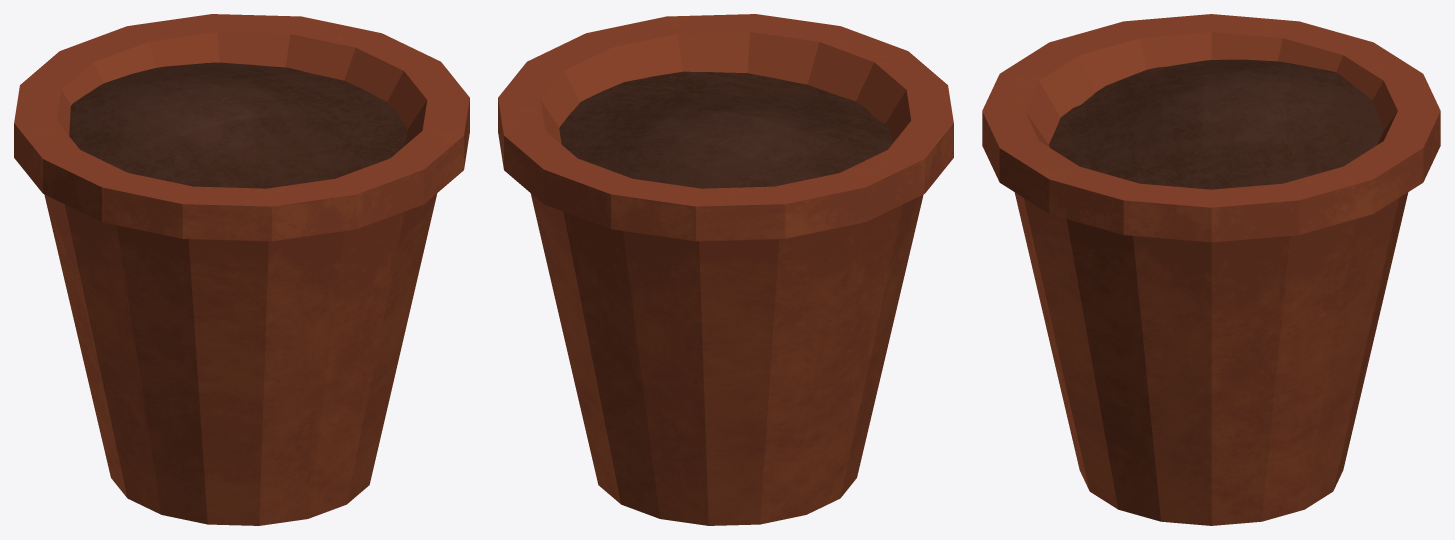
The model's file is Maceta_text.fbx.
3 renders of one model, left to right at view 1: azimuth 30°, elevation 25°; view 2: azimuth 150°, elevation 25°; view 3: azimuth 270°, elevation 25°, orthographic.
Parts seen in each view (by area): view 1: Maceta; view 2: Maceta; view 3: Maceta.
Boxes of the visible parts, x1=… form: Maceta: x1=14, y1=14, x2=469, y2=525; Maceta: x1=498, y1=14, x2=953, y2=525; Maceta: x1=982, y1=14, x2=1440, y2=525.
Bounding box in the file's own units: 31.52 × 27.34 × 31.52.
2 materials, 2 textured.
